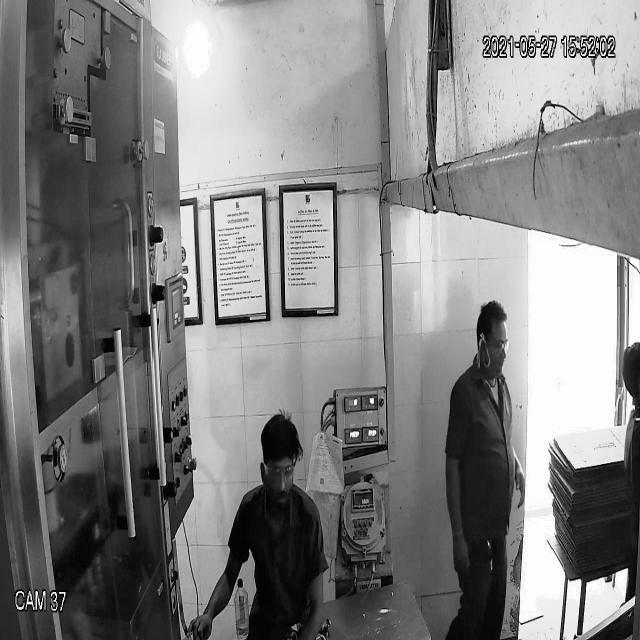glasses: (257, 452, 297, 487), (483, 335, 513, 359)
